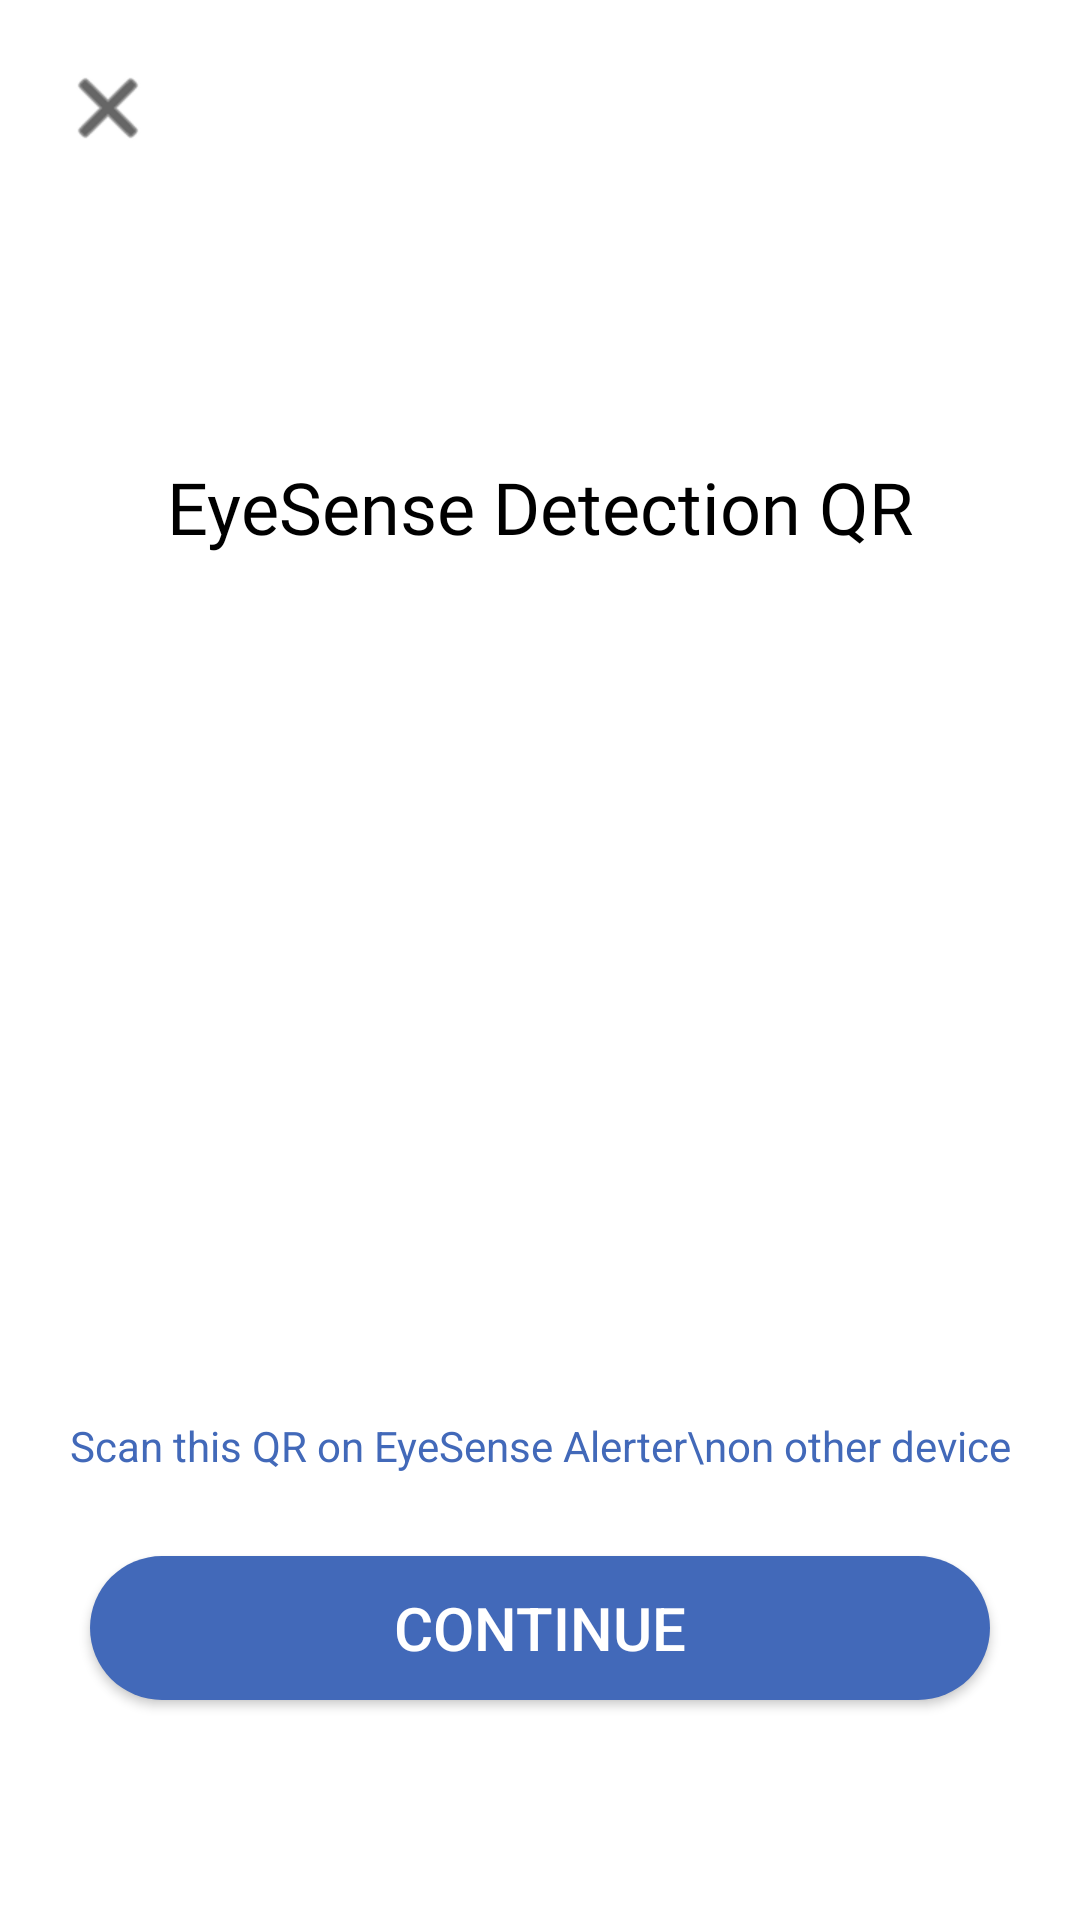

Where icons sit on this 1080px x 1920px app screen, as (x1=x1, y1=y1, x2=x2, y2=y2):
close clear cancel: (x1=78, y1=78, x2=138, y2=138)
